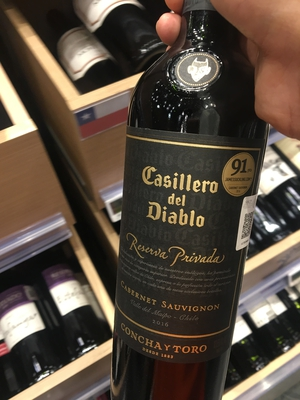casillero del diablo reserva privada cabernet sauvignon: (106, 25, 270, 399)
